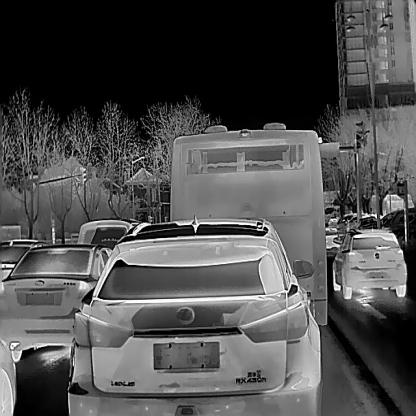bus: (167, 122, 328, 326), (381, 188, 415, 212)
car: (67, 225, 324, 415), (0, 245, 112, 360), (332, 228, 408, 298), (0, 238, 52, 280), (78, 219, 132, 246), (336, 210, 358, 232), (328, 214, 340, 228)
